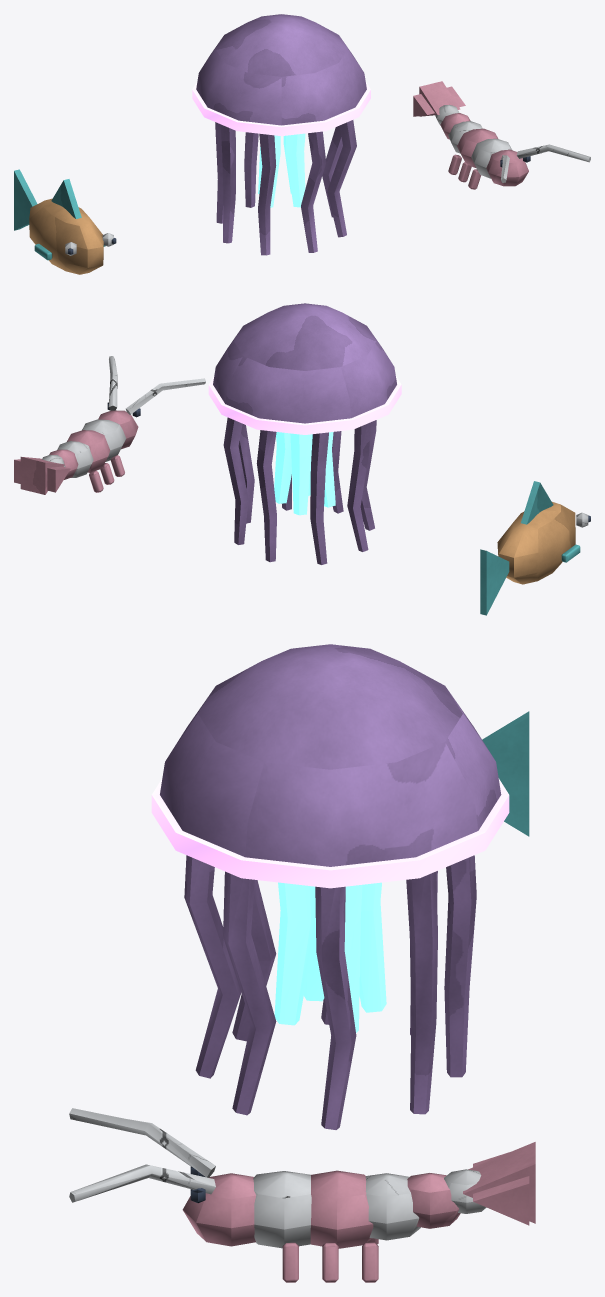
3 renders of one model, top to bottom at view 1: azimuth 30°, elevation 25°; view 2: azimuth 150°, elevation 25°; view 3: azimuth 270°, elevation 25°, orthographic. The views are drawn at different scales.
Parts seen in each view (by area): view 1: DL019_SmallFauna_coral_violet, DL019_SmallFauna_coral_pink, DL019_SmallFauna_coral_orange, DL019_SmallFauna_hull_offwhite, DL019_SmallFauna_emissive_violet, DL019_SmallFauna_coral_turq, DL019_SmallFauna_emissive_teal; view 2: DL019_SmallFauna_coral_violet, DL019_SmallFauna_coral_orange, DL019_SmallFauna_coral_pink, DL019_SmallFauna_emissive_teal, DL019_SmallFauna_hull_offwhite, DL019_SmallFauna_emissive_violet, DL019_SmallFauna_coral_turq; view 3: DL019_SmallFauna_coral_violet, DL019_SmallFauna_coral_pink, DL019_SmallFauna_hull_offwhite, DL019_SmallFauna_emissive_teal, DL019_SmallFauna_emissive_violet, DL019_SmallFauna_coral_turq.
Part boxes in pixels (<box>): DL019_SmallFauna_coral_violet: <box>196,14,366,255</box>; DL019_SmallFauna_coral_pink: <box>413,81,528,189</box>; DL019_SmallFauna_coral_orange: <box>29,198,103,274</box>; DL019_SmallFauna_hull_offwhite: <box>65,104,590,255</box>; DL019_SmallFauna_emissive_violet: <box>192,81,370,136</box>; DL019_SmallFauna_coral_turq: <box>14,169,105,260</box>; DL019_SmallFauna_emissive_teal: <box>258,133,305,207</box>; DL019_SmallFauna_coral_violet: <box>213,303,396,564</box>; DL019_SmallFauna_coral_orange: <box>497,502,575,584</box>; DL019_SmallFauna_coral_pink: <box>14,410,138,494</box>; DL019_SmallFauna_emissive_teal: <box>274,432,335,515</box>; DL019_SmallFauna_hull_offwhite: <box>42,356,588,527</box>; DL019_SmallFauna_emissive_violet: <box>208,376,401,434</box>; DL019_SmallFauna_coral_turq: <box>480,481,580,615</box>; DL019_SmallFauna_coral_violet: <box>160,644,501,1129</box>; DL019_SmallFauna_coral_pink: <box>182,1142,535,1282</box>; DL019_SmallFauna_hull_offwhite: <box>69,1108,486,1248</box>; DL019_SmallFauna_emissive_teal: <box>274,882,386,1032</box>; DL019_SmallFauna_emissive_violet: <box>151,778,509,888</box>; DL019_SmallFauna_coral_turq: <box>482,711,529,836</box>.
Bounding box in the file's own units: 3.42 × 1.39 × 1.41.
Materials: 8 (6 with a texture image).
